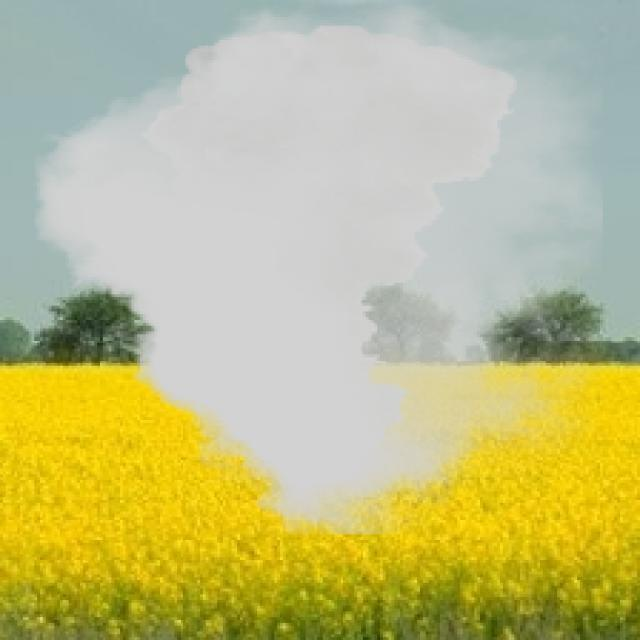Smoke: (34, 0, 603, 535)
